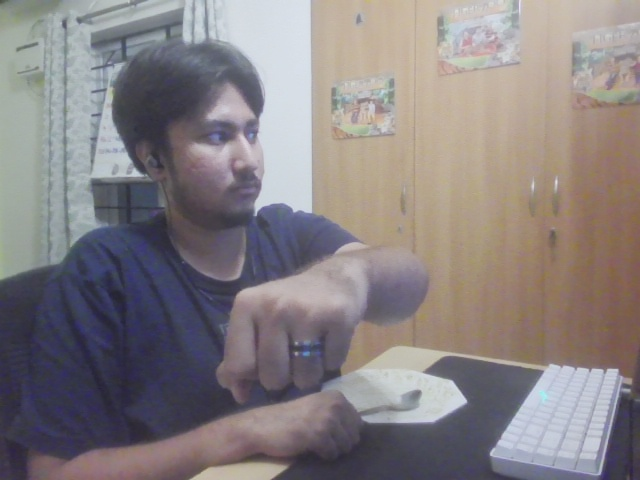yes: (214, 278, 381, 407)
